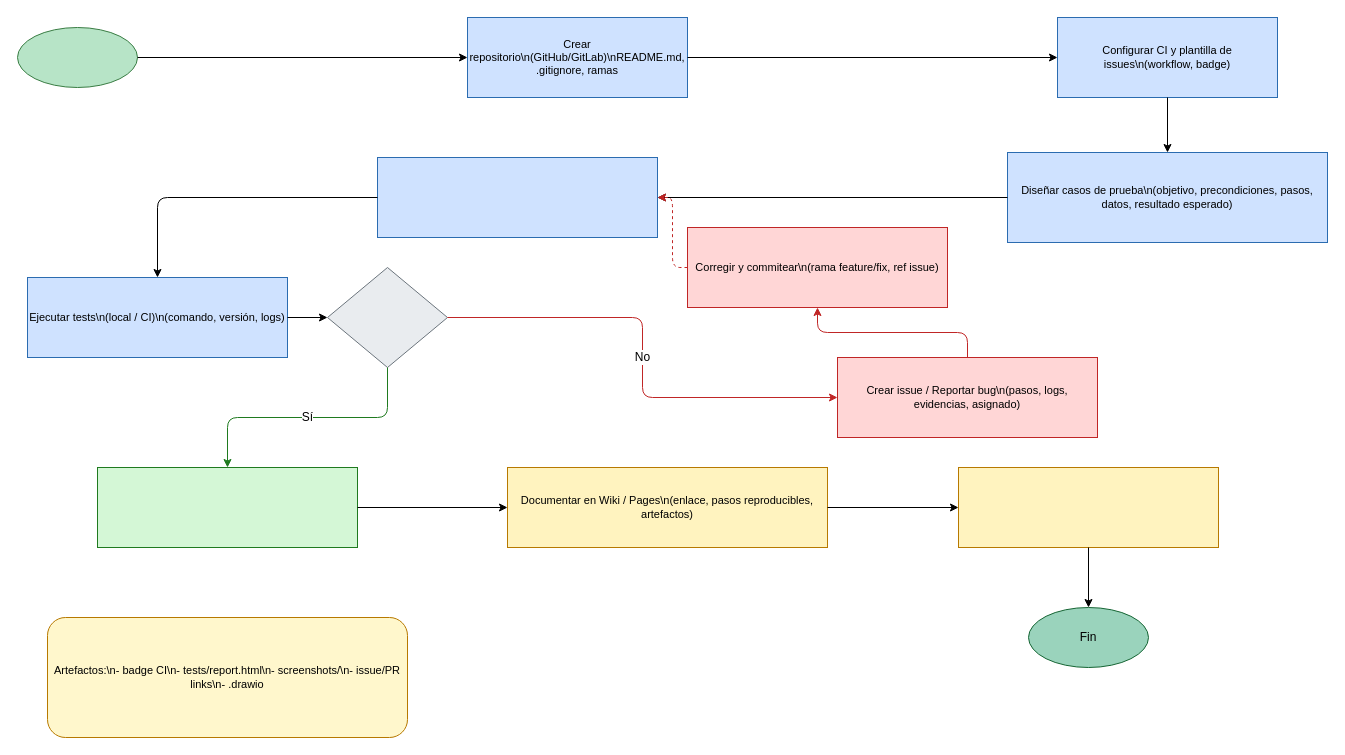
The diagram is 1345 pixels wide and 755 high, and some of its shapes have lost their labels. The shapes that lost their labels are listed below. From the top down, each one's centre as x and y in pixels, then its label:
At pixel 77 57: "Inicio".
At pixel 517 197: "Implementar tests\n(dir: tests/, convención, framework)".
At pixel 387 317: "¿Tests OK?".
At pixel 227 507: "Generar reporte de pruebas\n(HTML/JSON/XML, métricas, cobertura)".
At pixel 1088 507: "Actualizar Trello\n(mover tarjeta, adjuntar evidencias, Done)".
